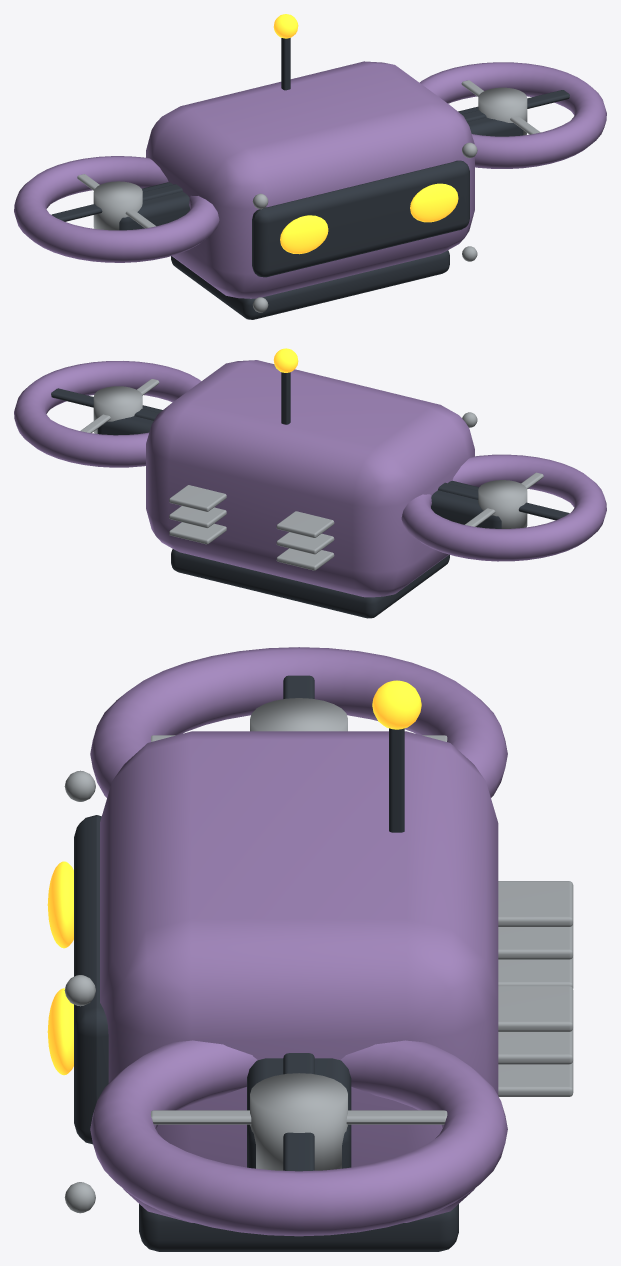
Rendered from drone-enemy.glb.
3 renders of one model, top to bottom at view 1: azimuth 30°, elevation 25°; view 2: azimuth 150°, elevation 25°; view 3: azimuth 270°, elevation 25°, orthographic. The views are drawn at different scales.
Visible parts, largest first — view 1: Carapace centrale, Masque optique, Carenage turbine, Carenage turbine.001, Plaque ventrale, Moyeu moteur, Bras moteur, Moyeu moteur.001, Oeil lumineux.001, Oeil lumineux, Bras moteur.001, Rotor turbine (+5 smaller); view 2: Carapace centrale, Carenage turbine, Carenage turbine.001, Plaque ventrale, Moyeu moteur, Bras moteur, Moyeu moteur.001, Ailette arriere.005, Ailette arriere.002, Bras moteur.001, Rotor turbine, Ailette arriere.001 (+8 smaller); view 3: Carapace centrale, Carenage turbine.001, Carenage turbine, Masque optique, Plaque ventrale, Moyeu moteur.001, Ailette arriere.005, Ailette arriere.002, Pale turbine.003, Moyeu moteur, Ailette arriere.004, Ailette arriere.003 (+8 smaller).
Boxes of the visible parts, box(x1,y1,x2,y2) form: Carapace centrale: box(146, 61, 474, 298); Masque optique: box(252, 160, 469, 277); Carenage turbine: box(14, 156, 219, 262); Carenage turbine.001: box(419, 62, 606, 168); Plaque ventrale: box(171, 250, 449, 319); Moyeu moteur: box(93, 181, 142, 230); Bras moteur: box(119, 182, 189, 230); Moyeu moteur.001: box(478, 87, 527, 135); Oeil lumineux.001: box(410, 183, 458, 222); Oeil lumineux: box(280, 215, 328, 254); Bras moteur.001: box(458, 106, 523, 136); Rotor turbine: box(51, 184, 182, 221); Carapace centrale: box(146, 360, 474, 597); Carenage turbine: box(401, 454, 606, 561); Carenage turbine.001: box(14, 361, 201, 467); Plaque ventrale: box(171, 549, 449, 618); Moyeu moteur: box(478, 480, 527, 528); Bras moteur: box(431, 480, 501, 528); Moyeu moteur.001: box(93, 386, 142, 433); Ailette arriere.005: box(169, 485, 226, 511); Ailette arriere.002: box(276, 511, 334, 537); Bras moteur.001: box(97, 405, 162, 435); Rotor turbine: box(438, 482, 569, 520); Ailette arriere.001: box(276, 532, 334, 554); Carapace centrale: box(100, 731, 498, 1222); Carenage turbine.001: box(90, 1040, 507, 1236); Carenage turbine: box(90, 647, 507, 797); Masque optique: box(74, 815, 108, 1144); Plaque ventrale: box(139, 1204, 458, 1251); Moyeu moteur.001: box(250, 1073, 347, 1170); Ailette arriere.005: box(498, 986, 573, 1031); Ailette arriere.002: box(498, 881, 573, 926); Pale turbine.003: box(151, 1110, 447, 1124); Moyeu moteur: box(250, 698, 347, 731); Ailette arriere.004: box(498, 1028, 573, 1064); Ailette arriere.003: box(498, 1061, 573, 1096).
Size of the model in its own units: 2 by 0.803 by 0.805.
